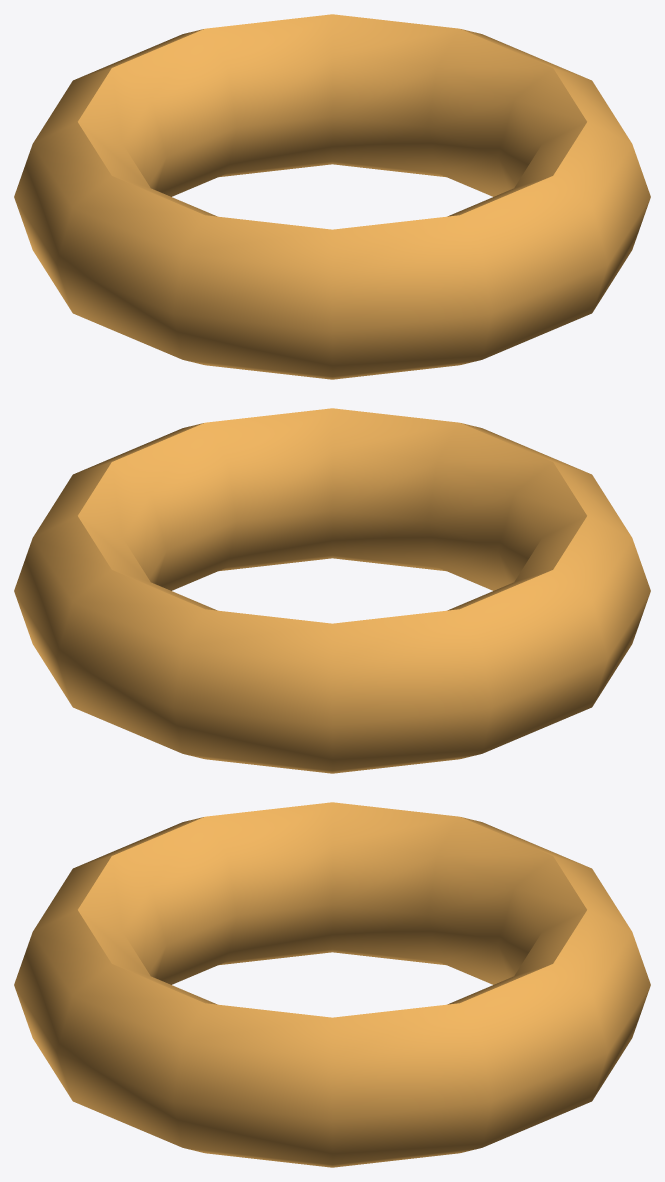
3 views of the same model, one above another, from view 1: azimuth 30°, elevation 25°; view 2: azimuth 150°, elevation 25°; view 3: azimuth 270°, elevation 25° (orthographic).
Parts seen in each view (by area): view 1: Torus_03; view 2: Torus_03; view 3: Torus_03.
Boxes of the visible parts, x1,y1,x2,y2 form: Torus_03: [14, 14, 650, 379]; Torus_03: [14, 408, 650, 773]; Torus_03: [14, 802, 650, 1167].
Bounding box in the file's own units: 375 × 97.5 × 375.
